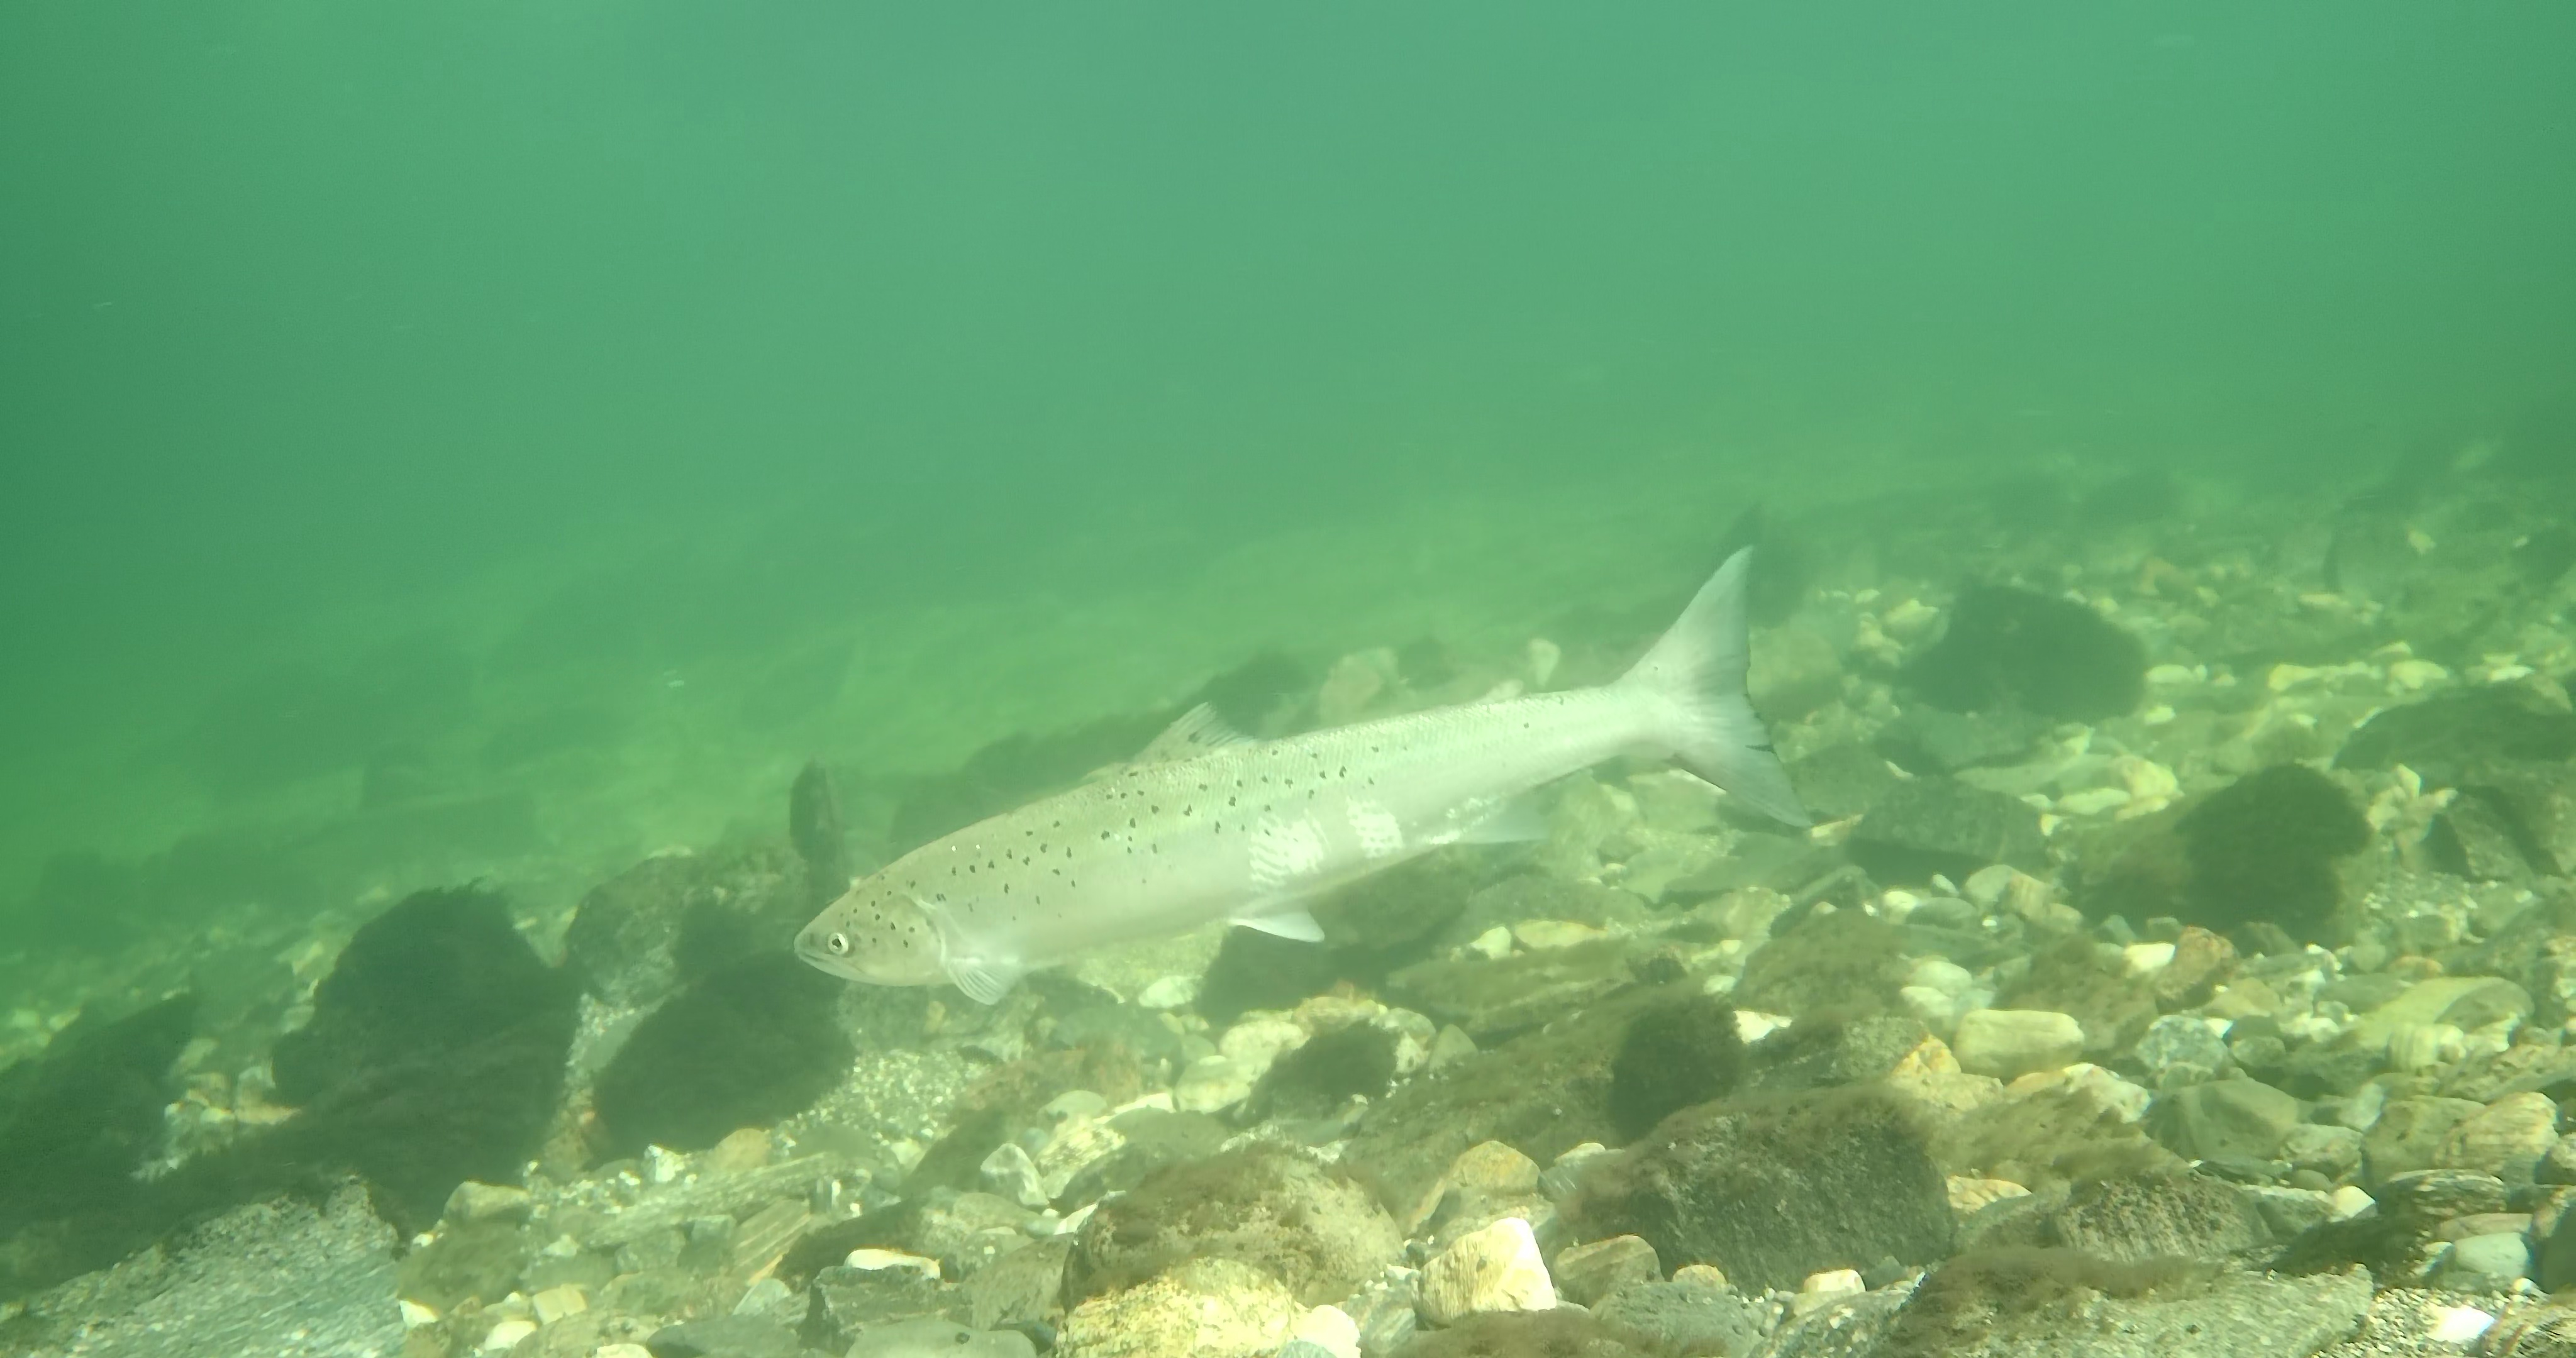salmon: (791, 542, 1816, 1007)
